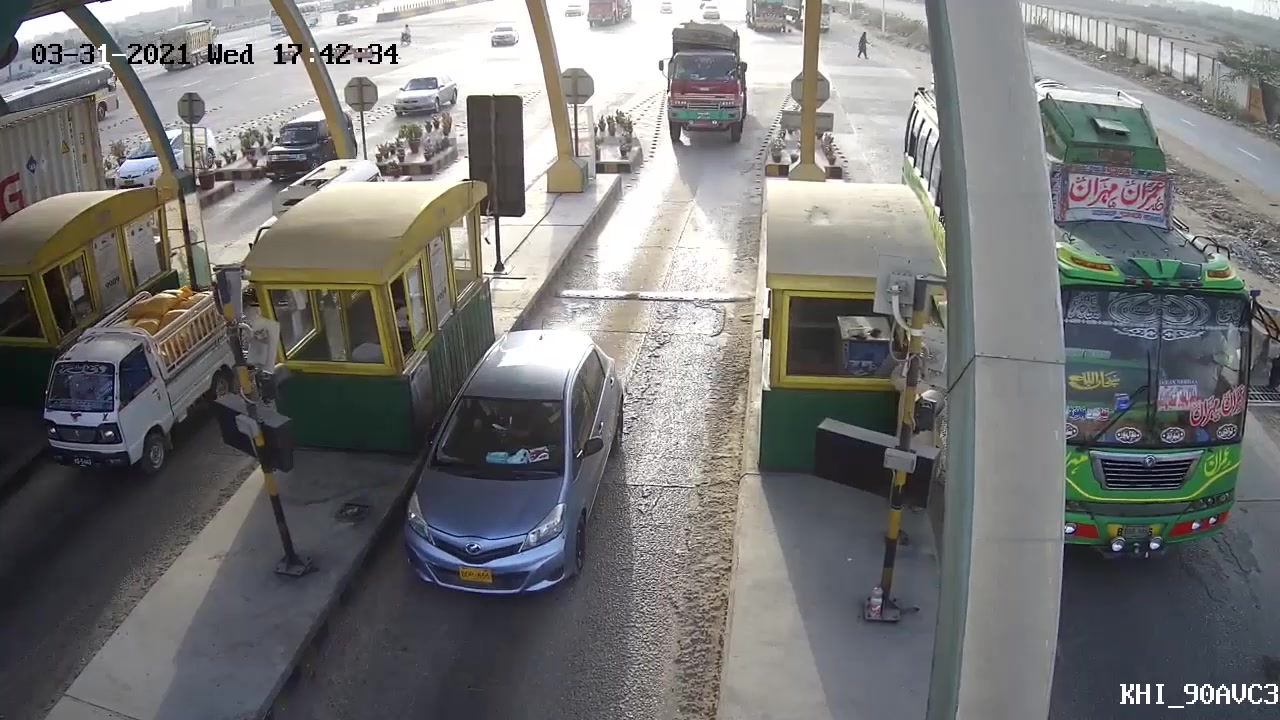F1: (396, 316, 633, 605)
F5: (659, 14, 751, 145)
